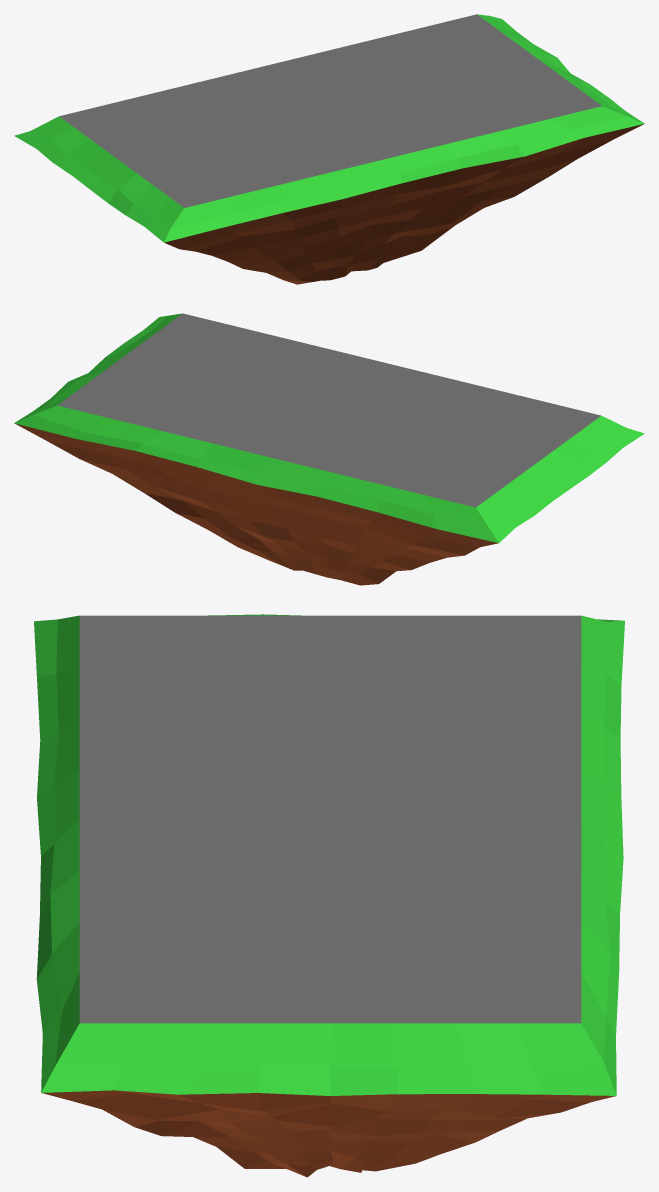
File: Isla.glb
3 renders of one model, top to bottom at view 1: azimuth 30°, elevation 25°; view 2: azimuth 150°, elevation 25°; view 3: azimuth 270°, elevation 25°, orthographic. The views are drawn at different scales.
Parts seen in each view (by area): view 1: Plane.009; view 2: Plane.009; view 3: Plane.009.
Boxes of the visible parts, x1=… form: Plane.009: x1=14, y1=14, x2=644, y2=284; Plane.009: x1=14, y1=313, x2=644, y2=585; Plane.009: x1=34, y1=614, x2=624, y2=1177.
Size of the model in its own units: 124 by 38.21 by 65.02.
